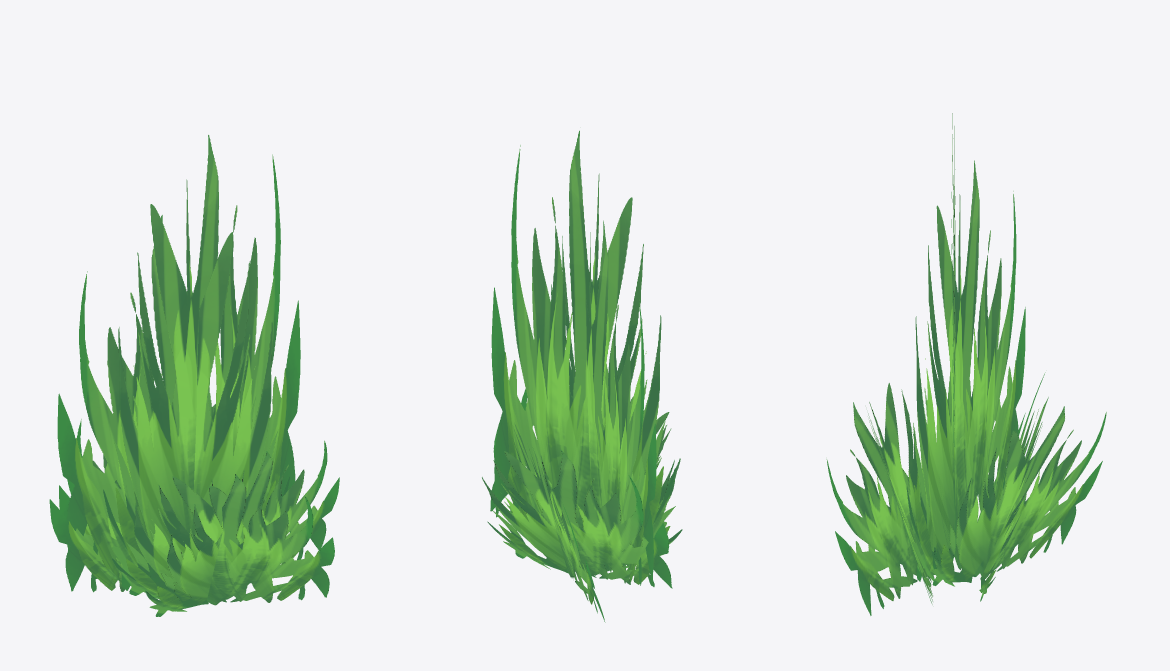
The model's file is UG_Grass_Regular_.fbx.
3 renders of one model, left to right at view 1: azimuth 30°, elevation 25°; view 2: azimuth 150°, elevation 25°; view 3: azimuth 270°, elevation 25°, orthographic. The views are drawn at different scales.
Visible parts, largest first — view 1: UG Grass Regular; view 2: UG Grass Regular; view 3: UG Grass Regular.
Part boxes in pixels (left/top/right/bottom): UG Grass Regular: left=49, top=135, right=339, bottom=616; UG Grass Regular: left=482, top=130, right=682, bottom=622; UG Grass Regular: left=826, top=113, right=1106, bottom=615.
Size of the model in its own units: 36.51 by 66.87 by 36.
